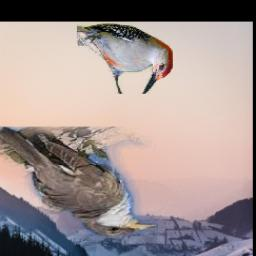Cuckoo: (0, 128, 159, 237)
Woodpecker: (78, 23, 174, 94)
